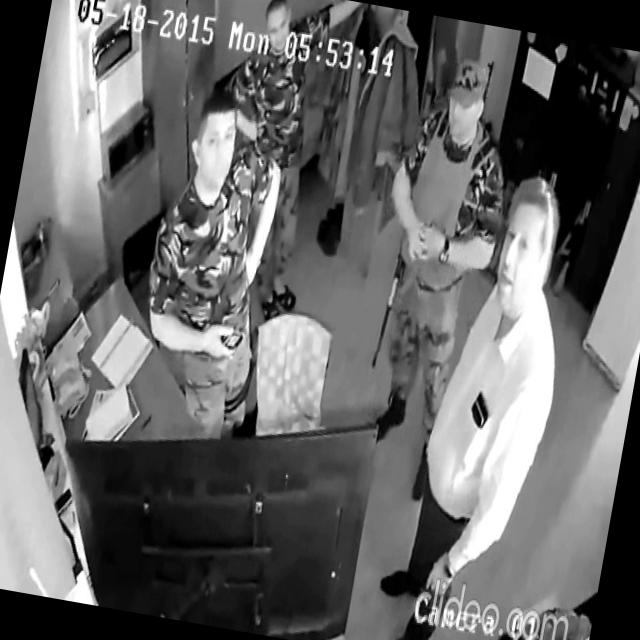gun: (547, 146, 609, 300), (370, 244, 411, 372)
person: (366, 158, 591, 640), (120, 80, 302, 449), (185, 0, 363, 324)
person with a gun: (337, 46, 530, 508)
